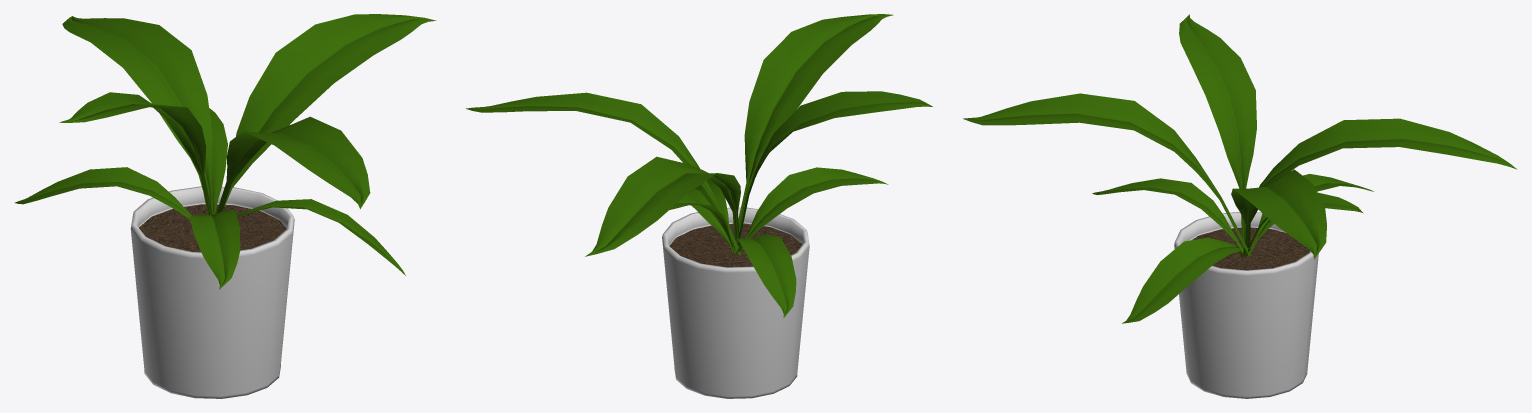
The model's file is HousePlant1.fbx.
The picture shows the model from 3 angles, left to right: view 1: azimuth 30°, elevation 25°; view 2: azimuth 150°, elevation 25°; view 3: azimuth 270°, elevation 25°; orthographic projection. The views are drawn at different scales.
Visible parts, largest first — view 1: Cube.008, Cube.004; view 2: Cube.008, Cube.004; view 3: Cube.008, Cube.004.
Boxes of the visible parts, x1,y1,x2,y2 form: Cube.008: (14, 14, 436, 289); Cube.004: (130, 186, 294, 398); Cube.008: (466, 14, 932, 317); Cube.004: (662, 207, 809, 398); Cube.008: (963, 14, 1517, 323); Cube.004: (1174, 212, 1318, 398).
Size of the model in its own units: 628 by 424 by 764.
